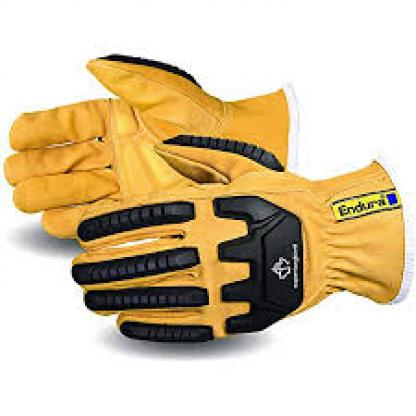with_gloves: (67, 142, 414, 348), (2, 50, 299, 242)
